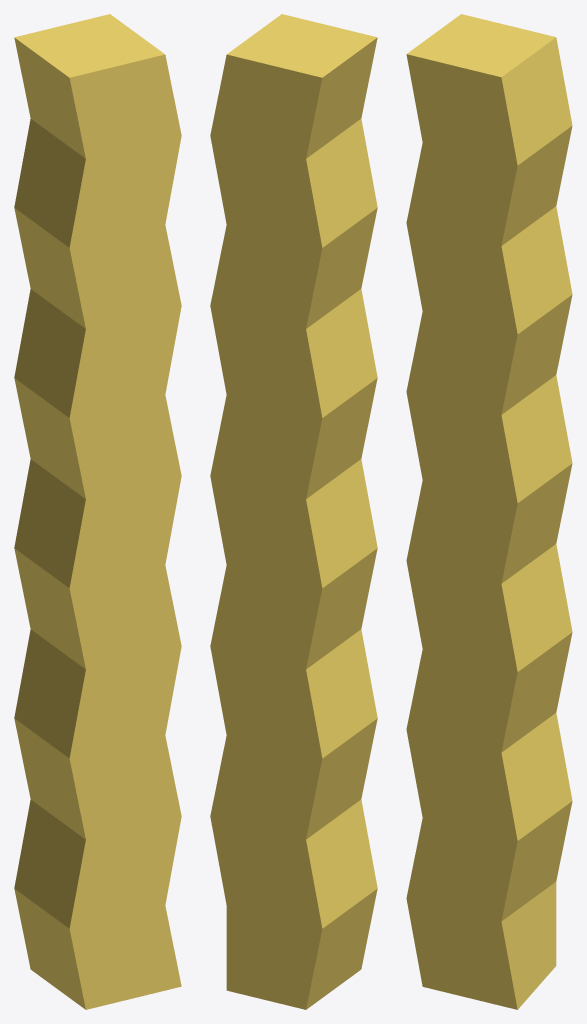
File: f_karbowana_fry.fbx
3 views of the same model, side by side, from view 1: azimuth 30°, elevation 25°; view 2: azimuth 150°, elevation 25°; view 3: azimuth 330°, elevation 25° (orthographic).
Visible parts, largest first — view 1: f_karbowana_fry.001; view 2: f_karbowana_fry.001; view 3: f_karbowana_fry.001.
Boxes of the visible parts, left/top/right/bottom form: f_karbowana_fry.001: left=14, top=14, right=181, bottom=1009; f_karbowana_fry.001: left=210, top=14, right=377, bottom=1009; f_karbowana_fry.001: left=406, top=14, right=572, bottom=1009.
Bounding box in the file's own units: 2.32 × 18.48 × 1.98.
